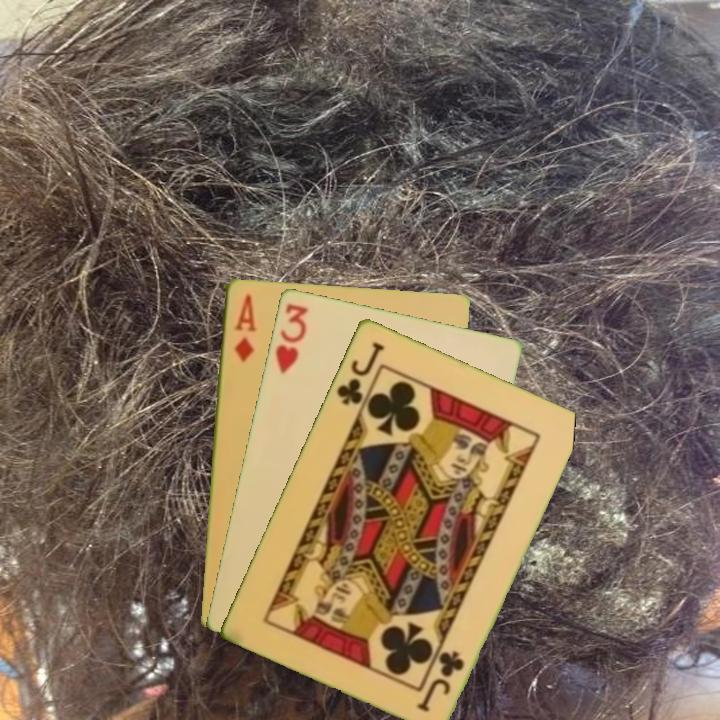3h: (271, 299, 311, 377)
Ad: (230, 290, 258, 364)
Jc: (332, 337, 387, 408), (414, 646, 467, 714)
